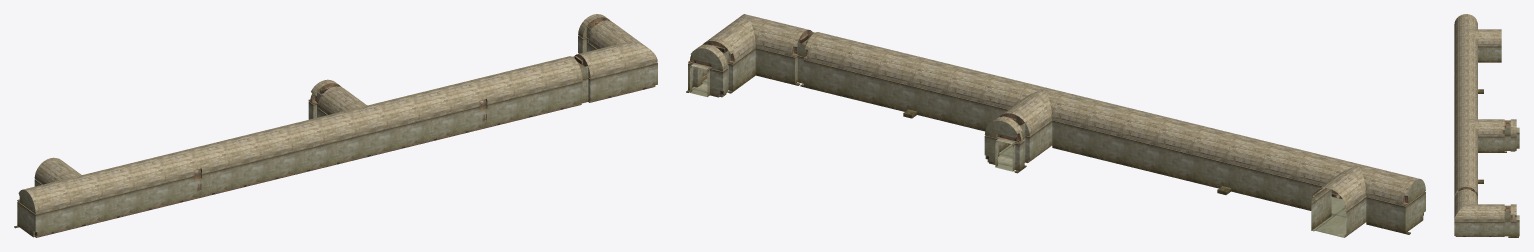
Rendered from poi_all_bunker_allum_mine_r16_hall16_mesh_r16.fbx.
3 renders of one model, left to right at view 1: azimuth 30°, elevation 25°; view 2: azimuth 150°, elevation 25°; view 3: azimuth 270°, elevation 25°, orthographic. The views are drawn at different scales.
Visible parts, largest first — view 1: mesh_node; view 2: mesh_node; view 3: mesh_node.
Part boxes in pixels (x1,y1,x2,y2): mesh_node: [14, 14, 657, 237]; mesh_node: [686, 14, 1425, 237]; mesh_node: [1454, 14, 1519, 237].
Size of the model in its own units: 78.9 by 5.1 by 11.
